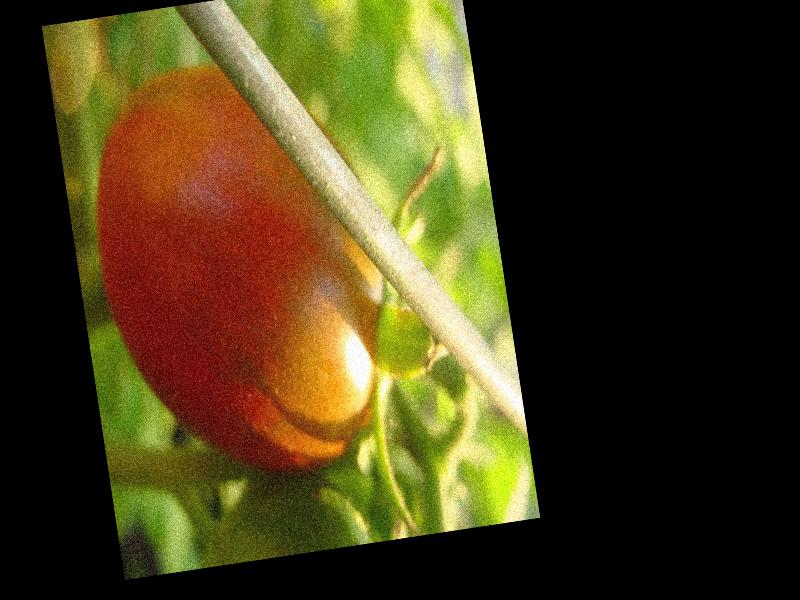Tomato: (75, 51, 407, 490)
